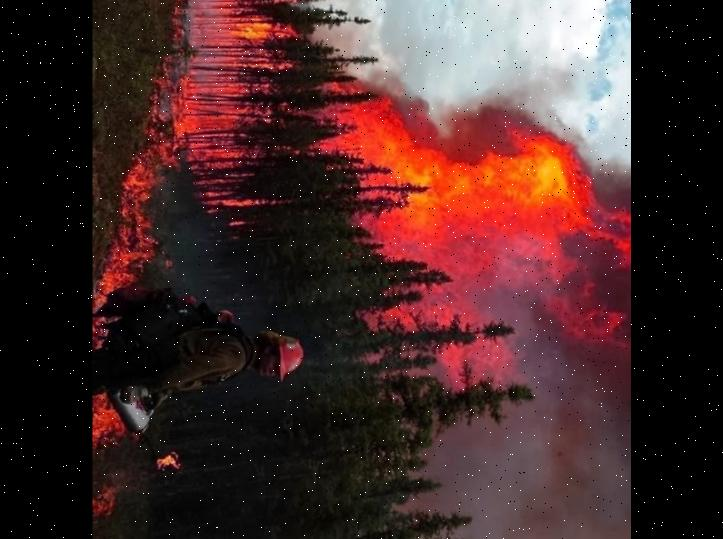fire: (316, 60, 612, 408), (94, 0, 287, 287), (92, 397, 124, 530)
